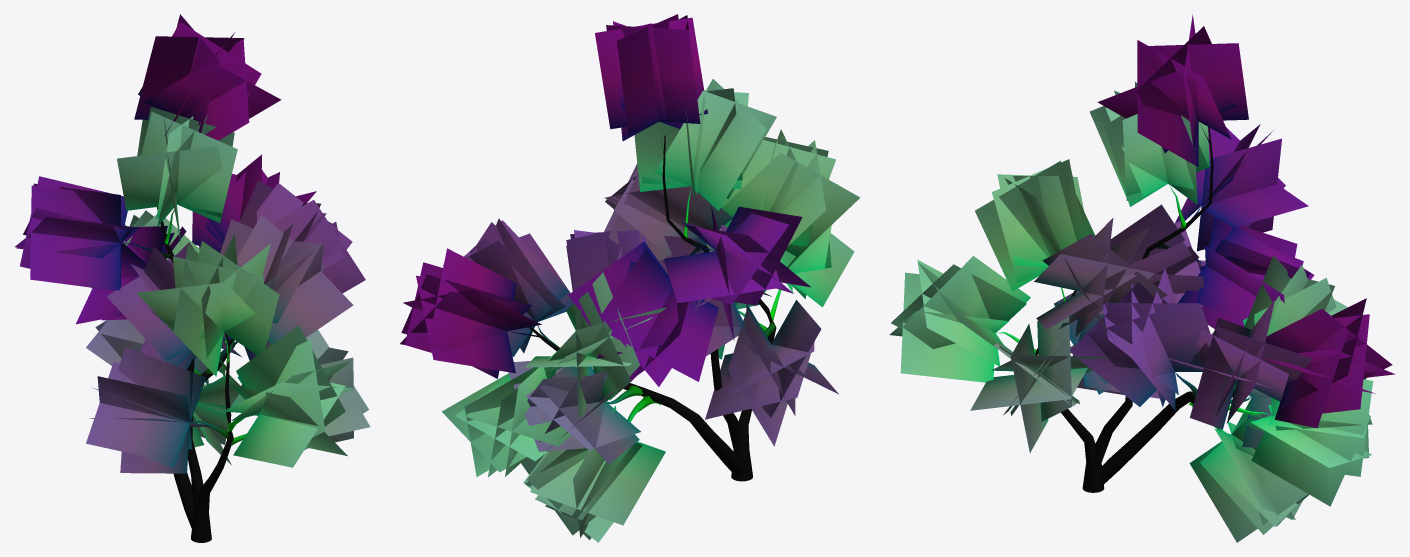
File: URP_P6_Tree_7_LOD_1.fbx
3 renders of one model, left to right at view 1: azimuth 30°, elevation 25°; view 2: azimuth 150°, elevation 25°; view 3: azimuth 270°, elevation 25°, orthographic. The views are drawn at different scales.
Visible parts, largest first — view 1: Tree_7_LOD_1; view 2: Tree_7_LOD_1; view 3: Tree_7_LOD_1.
Boxes of the visible parts, x1,y1,x2,y2 form: Tree_7_LOD_1: (15,14,370,542); Tree_7_LOD_1: (400,14,860,542); Tree_7_LOD_1: (889,14,1394,542).
Size of the model in its own units: 622 by 844 by 791.
